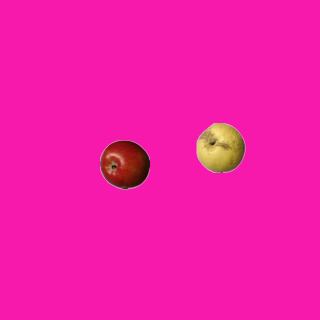Apple Braeburn: (99, 139, 149, 189)
Apple Golden 1: (195, 122, 245, 172)
